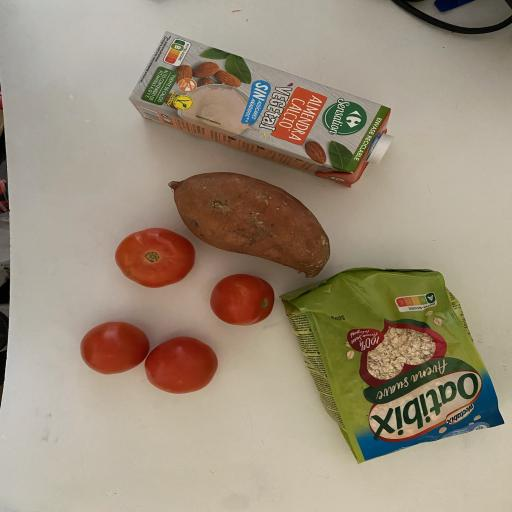almond_milk: (128, 27, 398, 191)
oats: (276, 263, 506, 464)
sweet_potato: (164, 168, 334, 280)
tomato: (111, 225, 197, 289), (142, 332, 221, 397), (78, 317, 153, 378), (206, 270, 279, 328)
